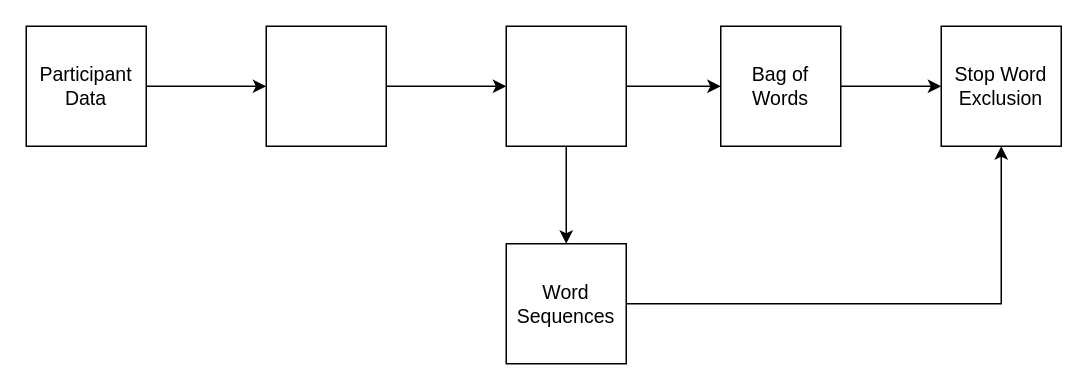
The diagram is 1088 pixels wide and 390 high, and some of its shapes have lost their labels. The shapes that lost their labels are listed below. From the top down, each one's centre as x and y in pixels, then its label:
At (325,85): "Spell Checking".
At (565,85): "Lemma- tization".
